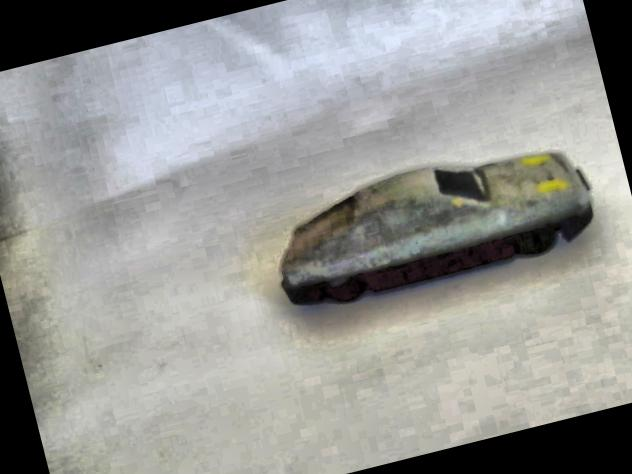normal_car: (253, 124, 607, 323)
